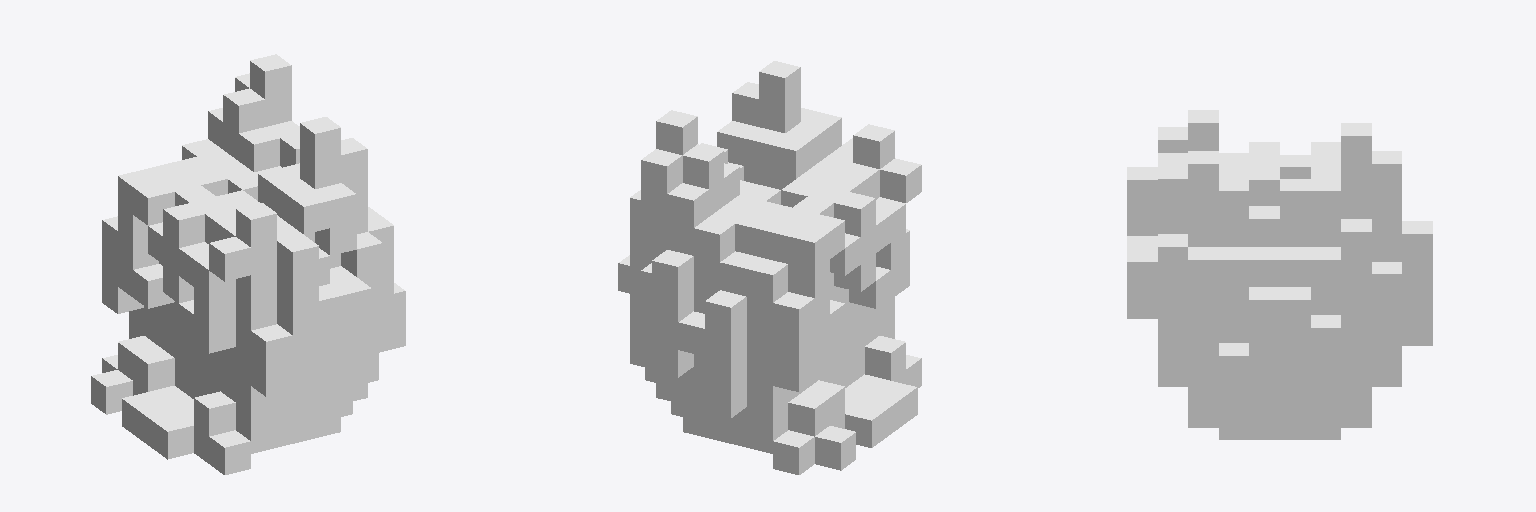
File: rambo_monkey_head.obj
3 renders of one model, left to right at view 1: azimuth 30°, elevation 25°; view 2: azimuth 150°, elevation 25°; view 3: azimuth 270°, elevation 25°, orthographic.
Bounding box in the file's own units: 9 × 11 × 10.